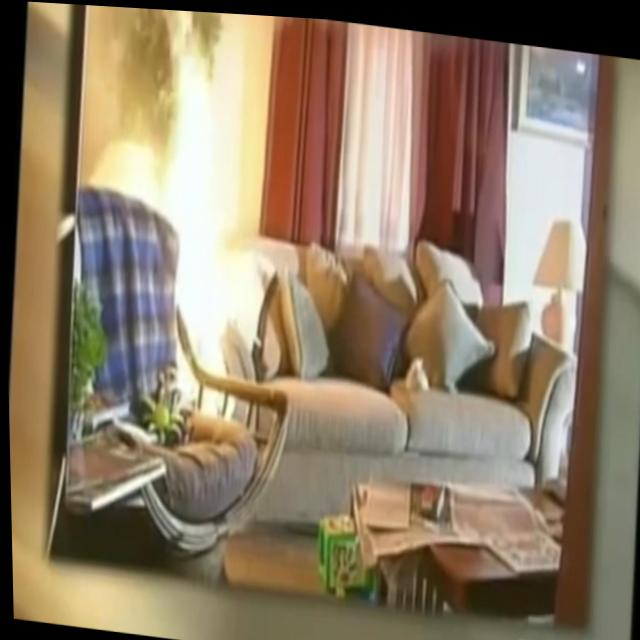fire: (141, 36, 259, 419)
